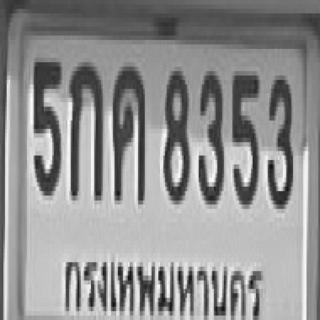A01: (67, 56, 101, 193)
A04: (111, 60, 145, 198)
N03: (197, 64, 222, 198), (266, 71, 291, 204)
N05: (32, 56, 61, 189), (231, 67, 258, 204)
N08: (162, 67, 189, 200)
P04: (59, 240, 264, 320)
